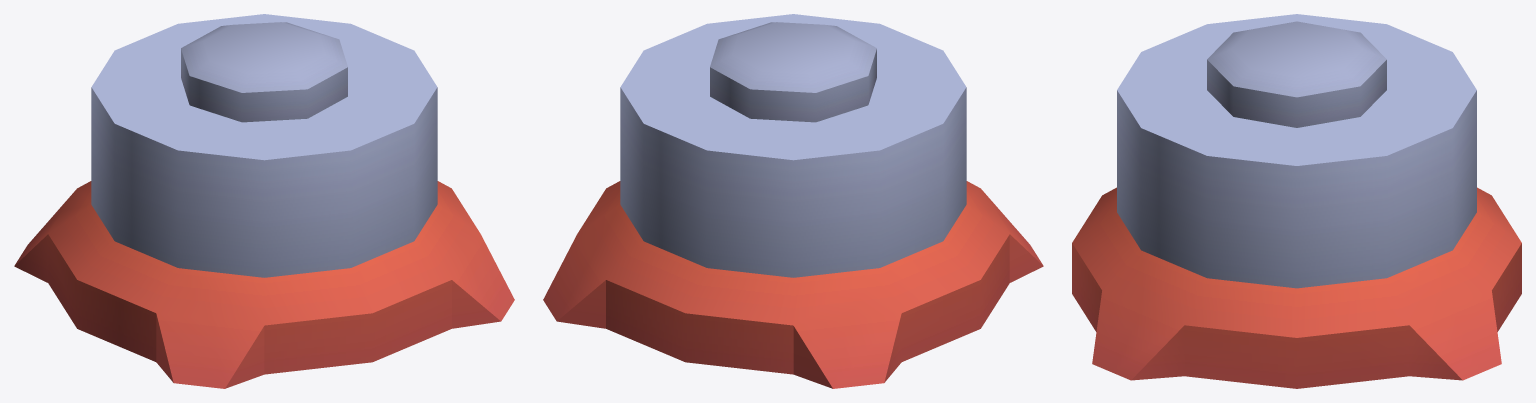
The model's file is kenney-tower-defense-tower-round-bottom-b.glb.
3 views of the same model, side by side, from view 1: azimuth 30°, elevation 25°; view 2: azimuth 150°, elevation 25°; view 3: azimuth 270°, elevation 25° (orthographic). The views are drawn at different scales.
Visible parts, largest first — view 1: tower-round-bottom-b; view 2: tower-round-bottom-b; view 3: tower-round-bottom-b.
Part boxes in pixels (x1=…): tower-round-bottom-b: x1=14, y1=14, x2=514, y2=388; tower-round-bottom-b: x1=543, y1=14, x2=1043, y2=388; tower-round-bottom-b: x1=1072, y1=14, x2=1521, y2=388.
Size of the model in its own units: 1 by 0.6001 by 1.
1 material, 1 textured.
